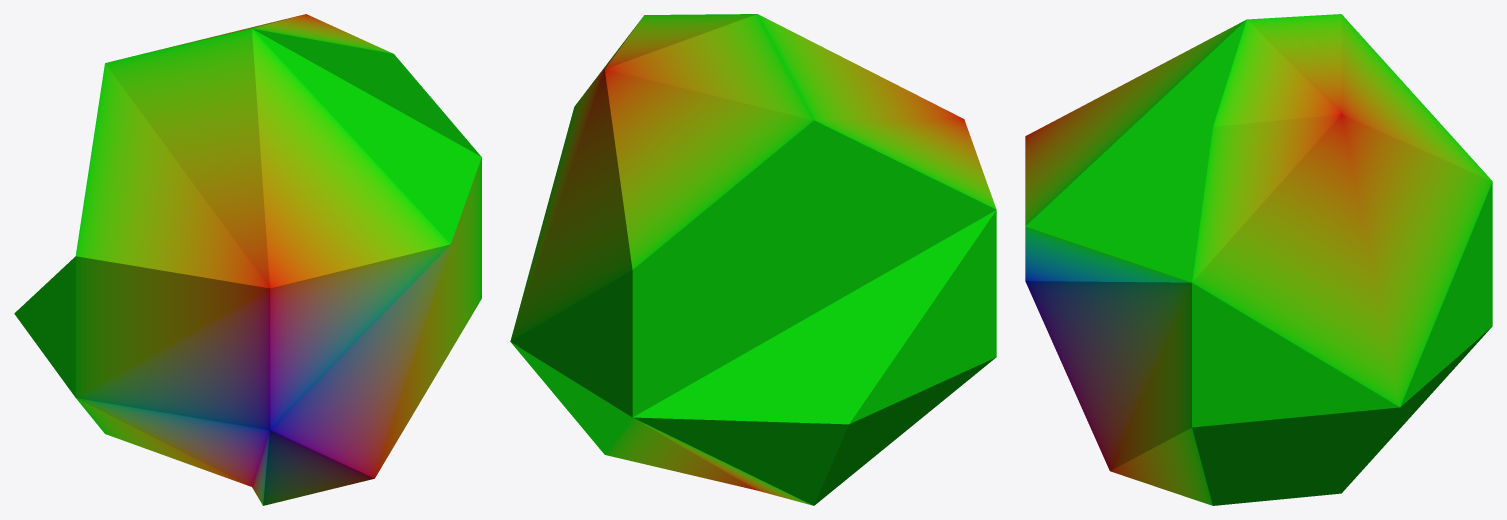
The model's file is all_11.obj.
3 renders of one model, left to right at view 1: azimuth 30°, elevation 25°; view 2: azimuth 150°, elevation 25°; view 3: azimuth 270°, elevation 25°, orthographic. The views are drawn at different scales.
Size of the model in its own units: 1.85 by 2 by 1.81.
